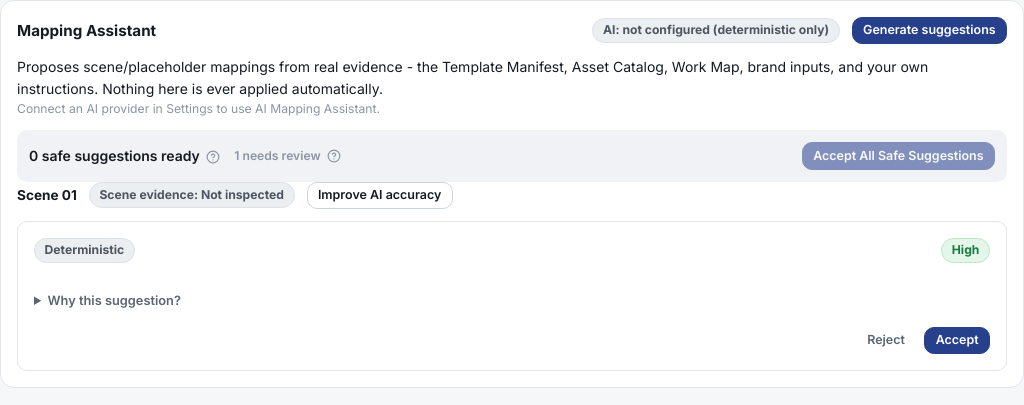
MappingAssistantPanel › rejects a suggestion and leaves it visible as Rejected, never silently removed
Click the button "Reject" at (886, 341), box x1=856 y1=327 x2=916 y2=354
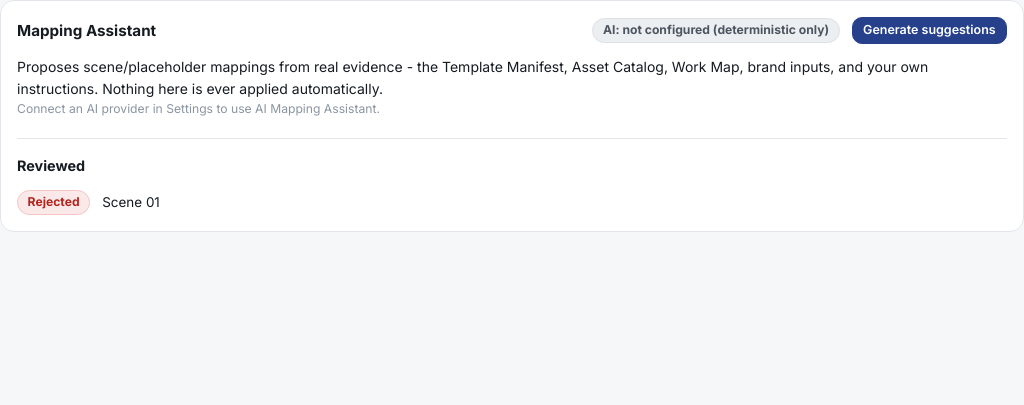
Expected: the text "Rejected" is shown, x1=17 y1=190 x2=90 y2=215
